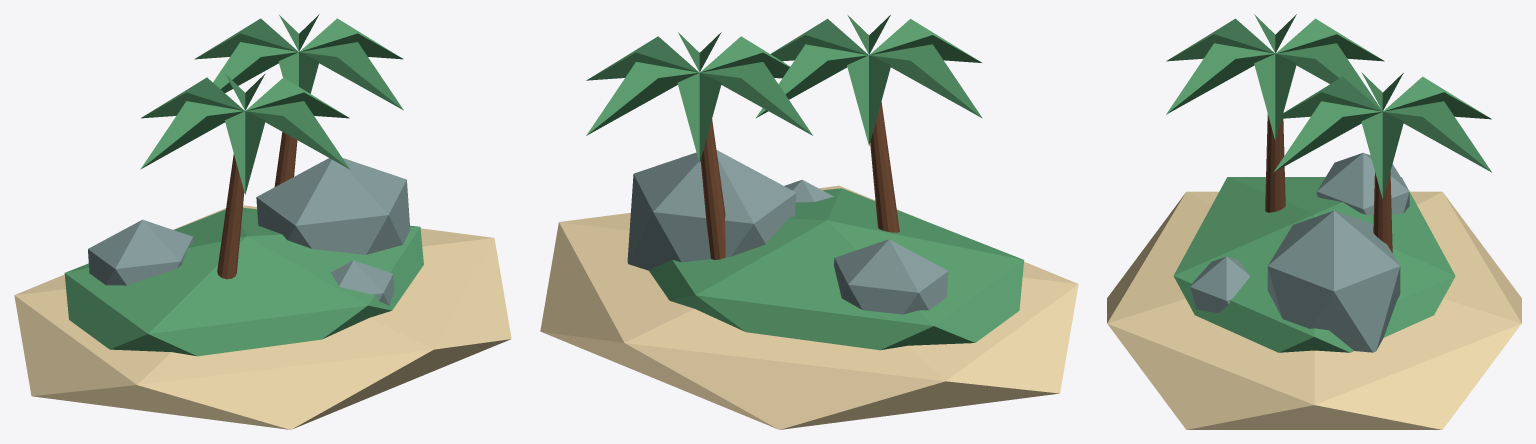
The model's file is island-palm.glb.
The picture shows the model from 3 angles, left to right: view 1: azimuth 30°, elevation 25°; view 2: azimuth 150°, elevation 25°; view 3: azimuth 270°, elevation 25°; orthographic projection. The views are drawn at different scales.
Parts seen in each view (by area): view 1: Sand shelf, Grassy rise, Island rock, Island rock.001, Palm frond.003, Palm frond.011, Palm frond.005, Palm frond.009, Palm trunk, Palm frond.004, Island rock.002, Palm frond.008 (+5 smaller); view 2: Sand shelf, Grassy rise, Island rock, Island rock.001, Palm frond.009, Palm frond.003, Palm frond.007, Palm frond.001, Palm trunk.001, Palm trunk, Palm frond.008, Palm frond.002 (+5 smaller); view 3: Sand shelf, Grassy rise, Island rock, Island rock.001, Palm frond.011, Palm frond.005, Palm frond.007, Island rock.002, Palm frond.001, Palm frond, Palm frond.006, Palm frond.002 (+7 smaller).
Part boxes in pixels (x1,y1,x2,y2): Sand shelf: (14, 205, 511, 429); Grassy rise: (64, 207, 423, 356); Island rock: (256, 158, 410, 254); Island rock.001: (88, 219, 193, 285); Palm frond.003: (140, 101, 244, 169); Palm frond.011: (299, 42, 403, 110); Palm frond.005: (245, 101, 349, 169); Palm frond.009: (213, 42, 298, 92); Palm trunk: (217, 154, 244, 279); Palm frond.004: (225, 111, 265, 194); Island rock.002: (331, 260, 394, 305); Palm frond.008: (194, 18, 298, 59); Sand shelf: (540, 185, 1078, 429); Grassy rise: (649, 188, 1024, 350); Island rock: (627, 150, 796, 270); Island rock.001: (834, 239, 948, 314); Palm frond.009: (700, 62, 812, 135); Palm frond.003: (869, 44, 982, 118); Palm frond.007: (586, 62, 698, 135); Palm frond.001: (755, 44, 868, 118); Palm trunk.001: (700, 119, 725, 259); Palm trunk: (870, 101, 899, 232); Palm frond.008: (677, 72, 721, 163); Palm frond.002: (847, 55, 891, 145); Sand shelf: (1107, 191, 1521, 429); Grassy rise: (1173, 177, 1455, 352); Island rock: (1267, 211, 1400, 352); Island rock.001: (1316, 152, 1409, 214); Palm frond.011: (1273, 101, 1382, 172); Palm frond.005: (1166, 43, 1274, 114); Palm frond.007: (1383, 101, 1491, 172); Island rock.002: (1190, 256, 1250, 313); Palm frond.001: (1276, 43, 1382, 111); Palm frond: (1254, 54, 1296, 141); Palm frond.006: (1361, 112, 1403, 198); Palm frond.002: (1276, 18, 1384, 61).
Bounding box in the file's own units: 5.72 × 3.47 × 4.25.
